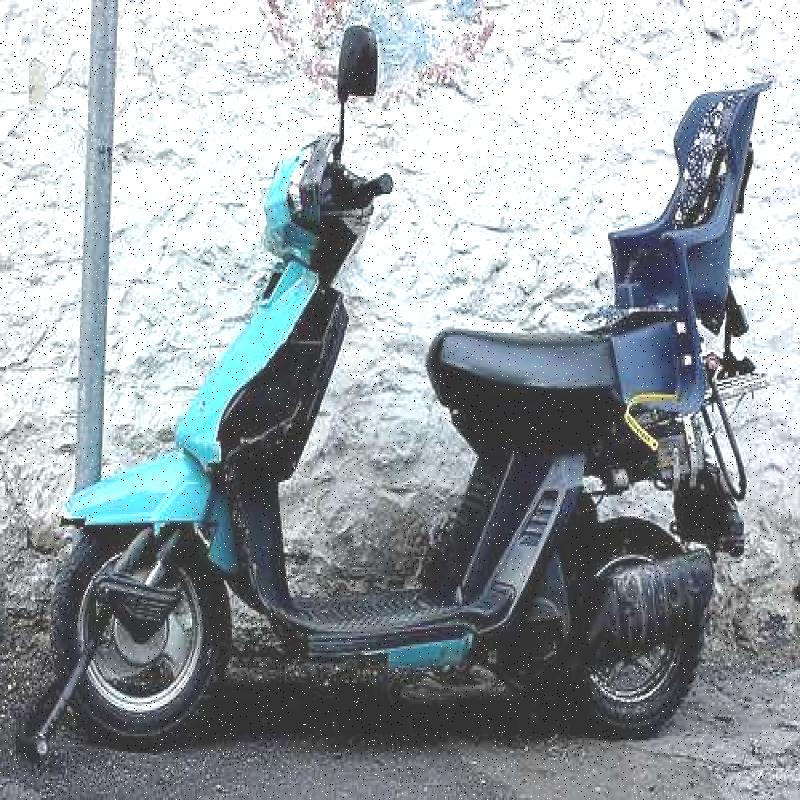bike: (30, 42, 773, 712)
